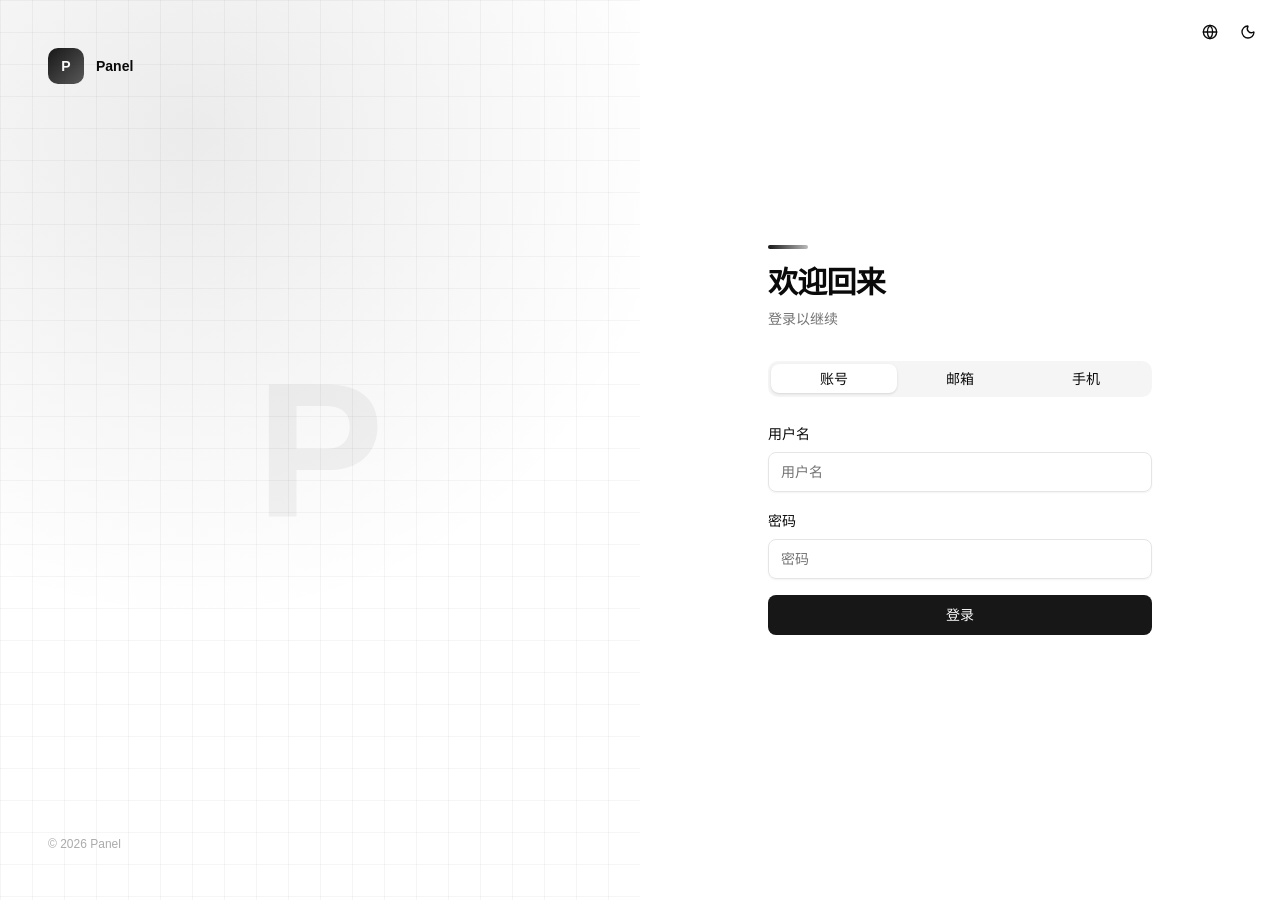
Scenario: LoginPage › 登录失败：展示后端错误消息且不跳转
In the field labelled "用户名": (960, 472) x1=768 y1=452 x2=1152 y2=492, type "admin"
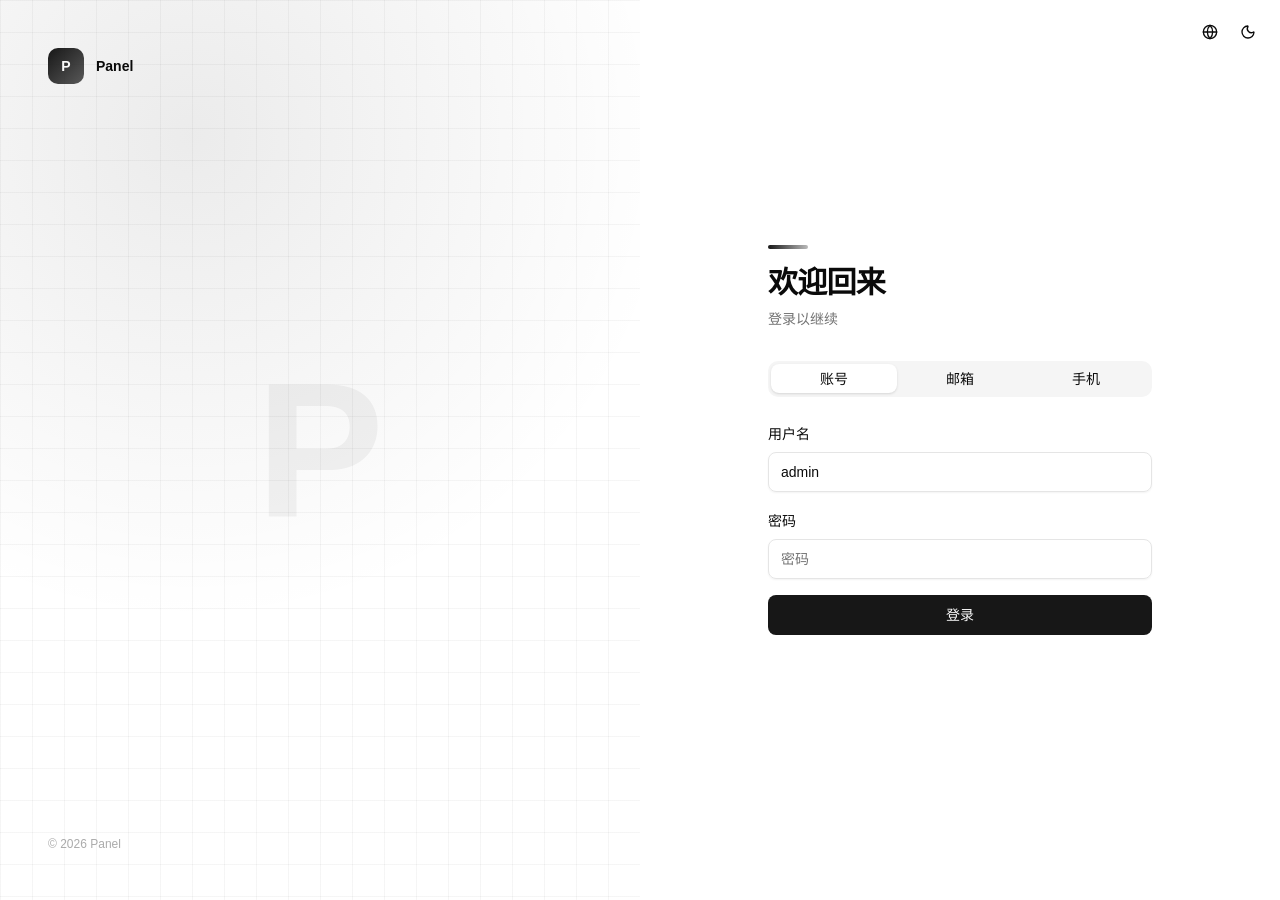
In the password field labelled "密码": (960, 559) x1=768 y1=539 x2=1152 y2=579, type "wrong!"
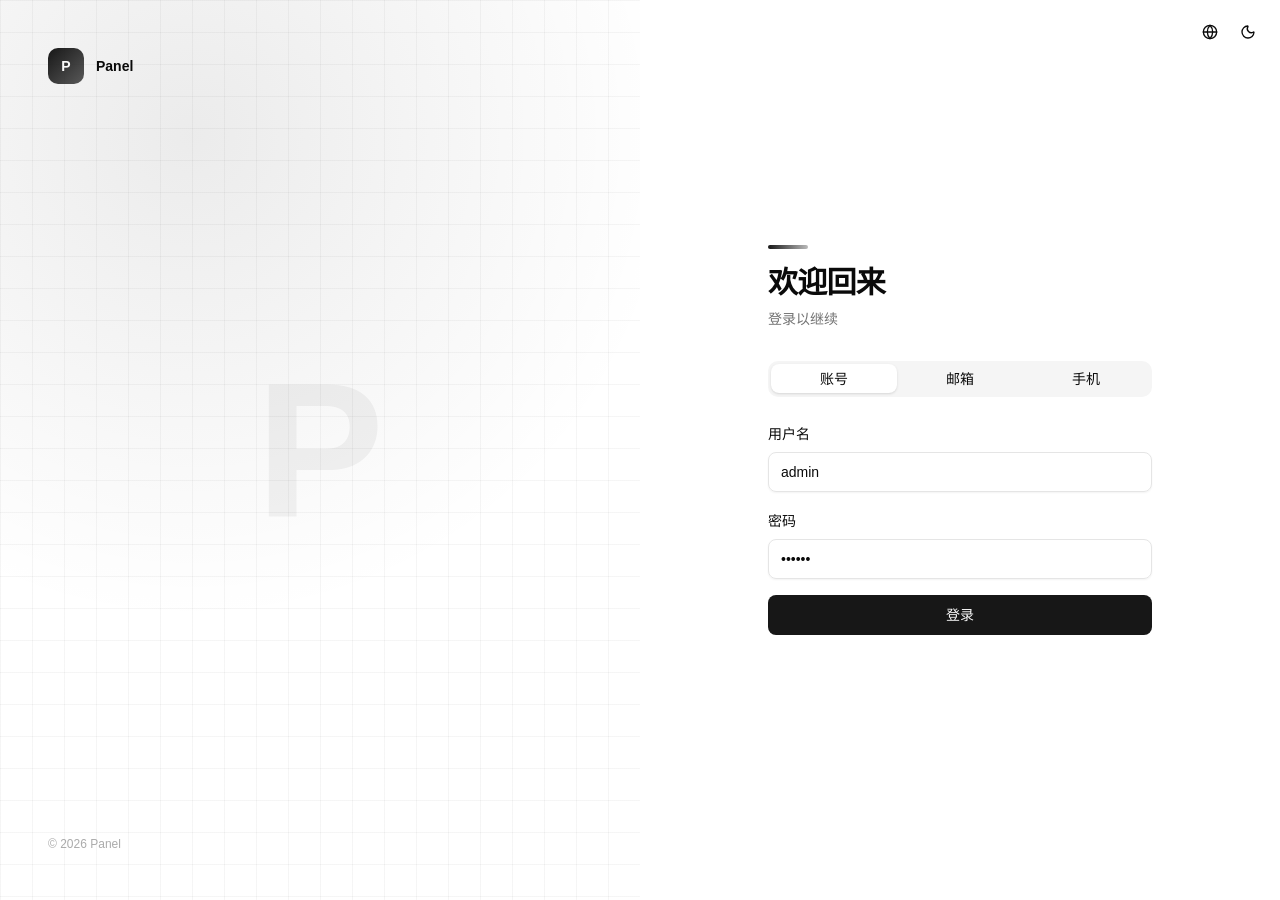
Click the button "登录": (960, 615) x1=768 y1=595 x2=1152 y2=635
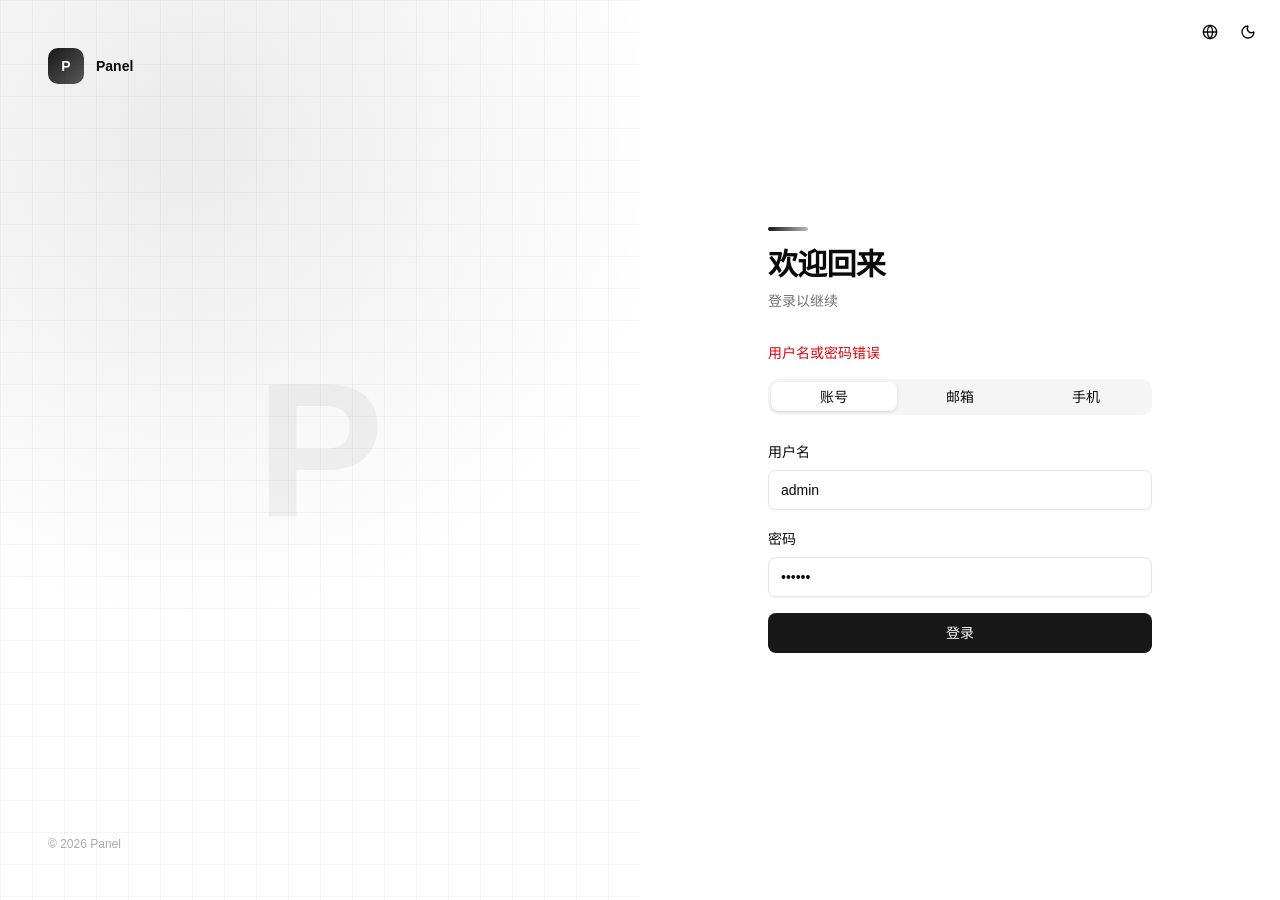
Result: the message reads "用户名或密码错误" at x1=768 y1=345 x2=880 y2=361
